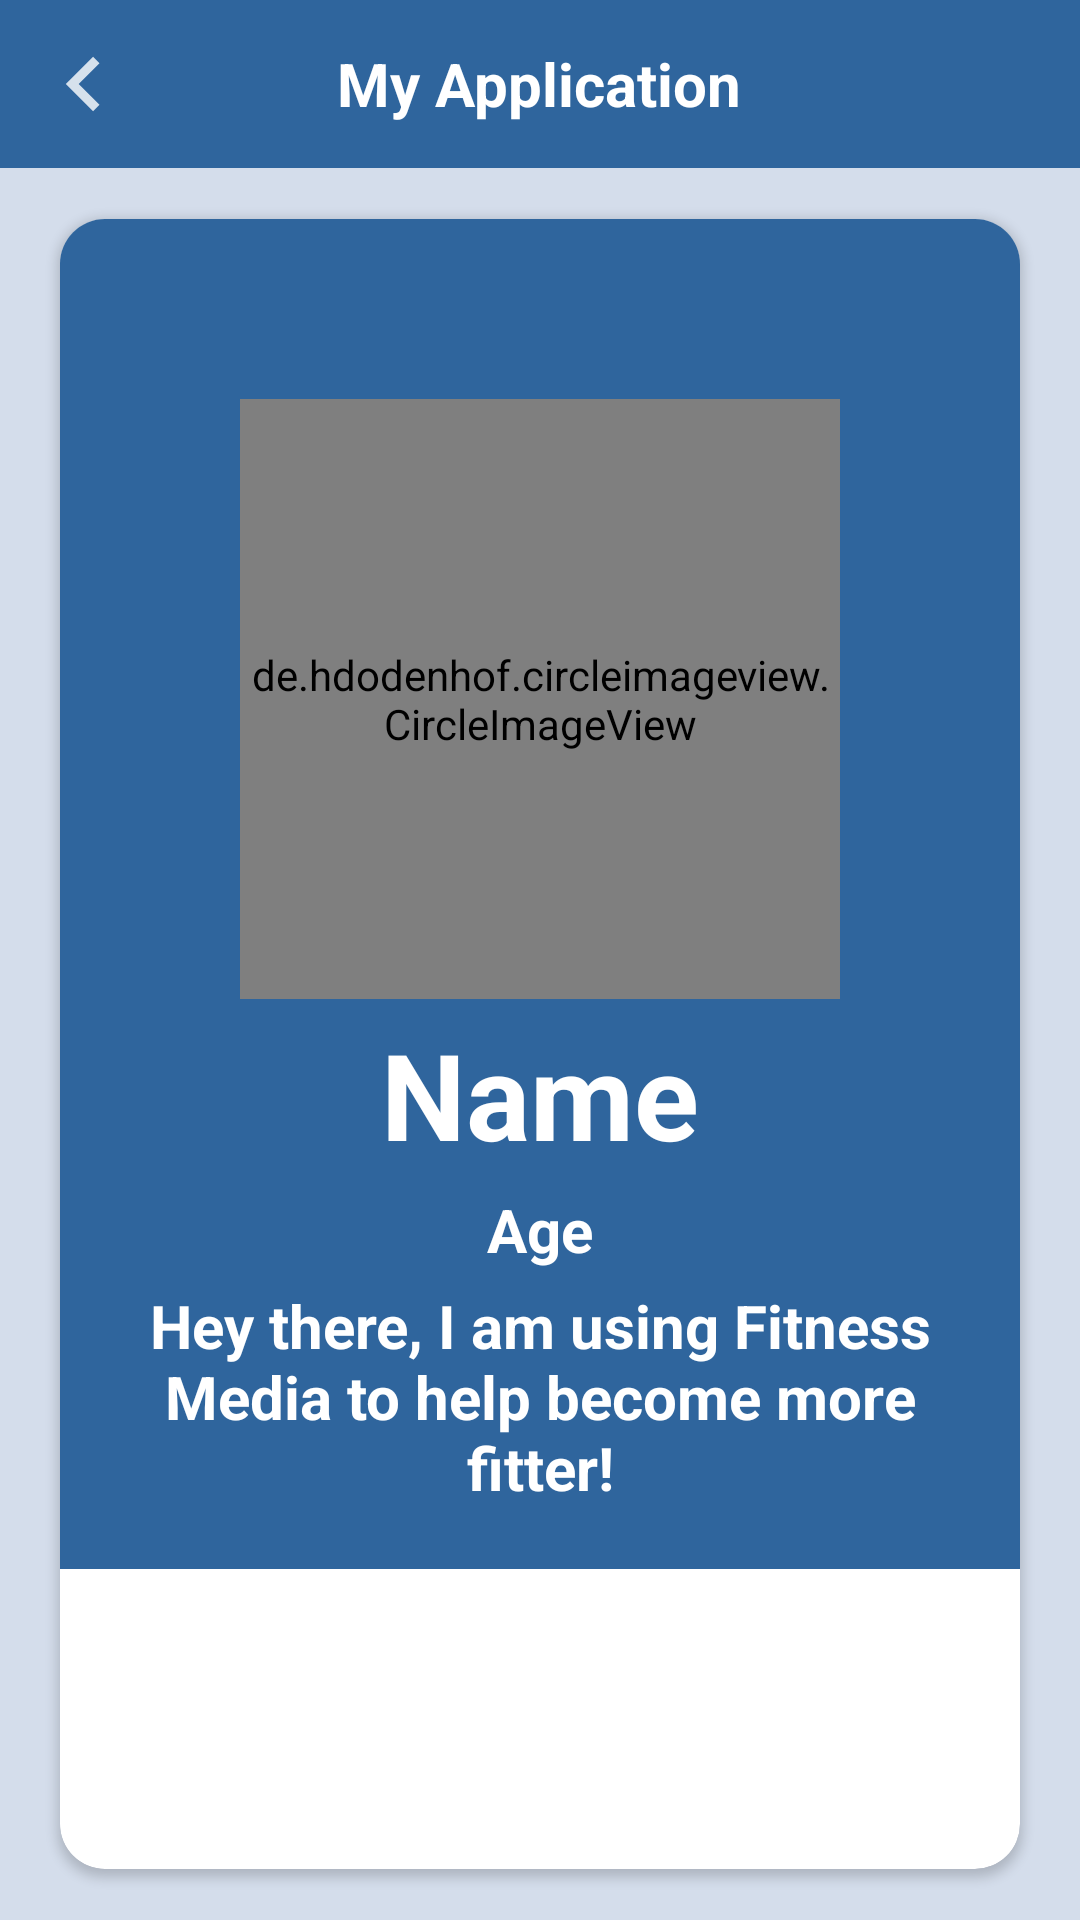

Screen size 1080 × 1920. Icon name, then its center in pixels as point (x, y):
back arrow: point (83, 84)
